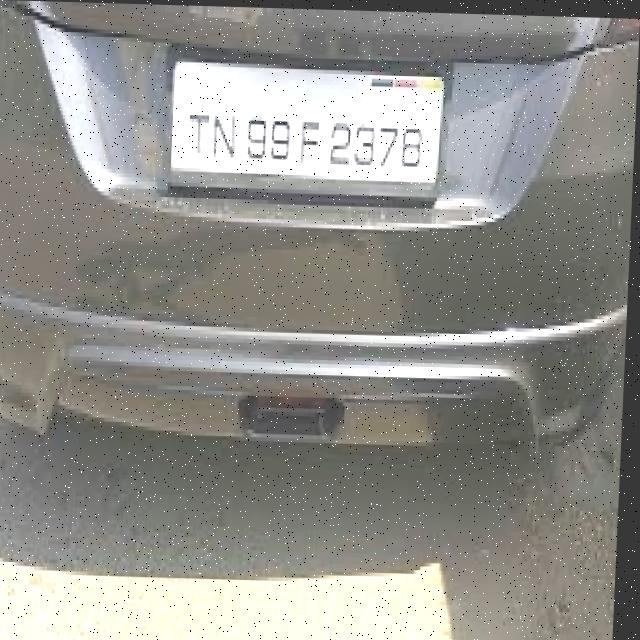plate: (164, 45, 448, 187)
